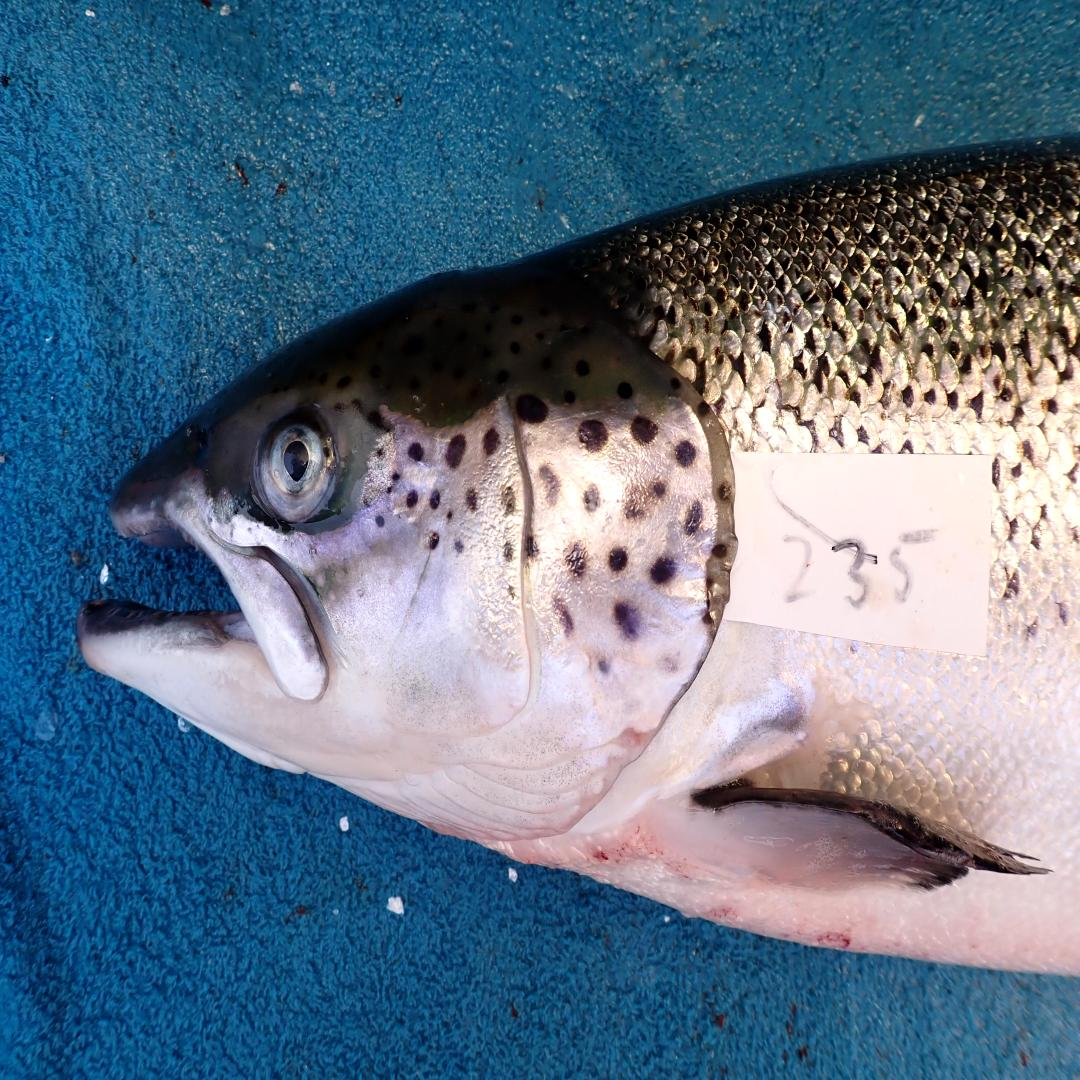spot: (553, 593, 576, 638), (578, 419, 608, 453), (538, 464, 561, 506), (517, 394, 548, 425), (614, 602, 639, 638), (631, 416, 658, 444), (650, 557, 677, 585), (683, 501, 705, 534), (624, 486, 646, 519), (445, 433, 466, 467), (565, 543, 586, 577), (675, 442, 696, 467), (483, 428, 500, 456), (500, 487, 517, 515), (371, 436, 392, 458), (584, 484, 599, 512), (656, 655, 676, 675), (525, 534, 540, 560), (464, 487, 479, 512), (610, 548, 626, 571), (407, 442, 424, 461), (502, 540, 515, 562), (651, 479, 666, 497), (405, 489, 418, 509), (454, 534, 466, 554), (718, 482, 731, 500), (430, 489, 441, 509), (712, 544, 727, 558), (428, 532, 439, 550), (598, 659, 610, 675), (373, 515, 386, 529), (507, 585, 516, 599), (392, 472, 401, 481), (447, 509, 454, 520), (385, 486, 392, 494)
